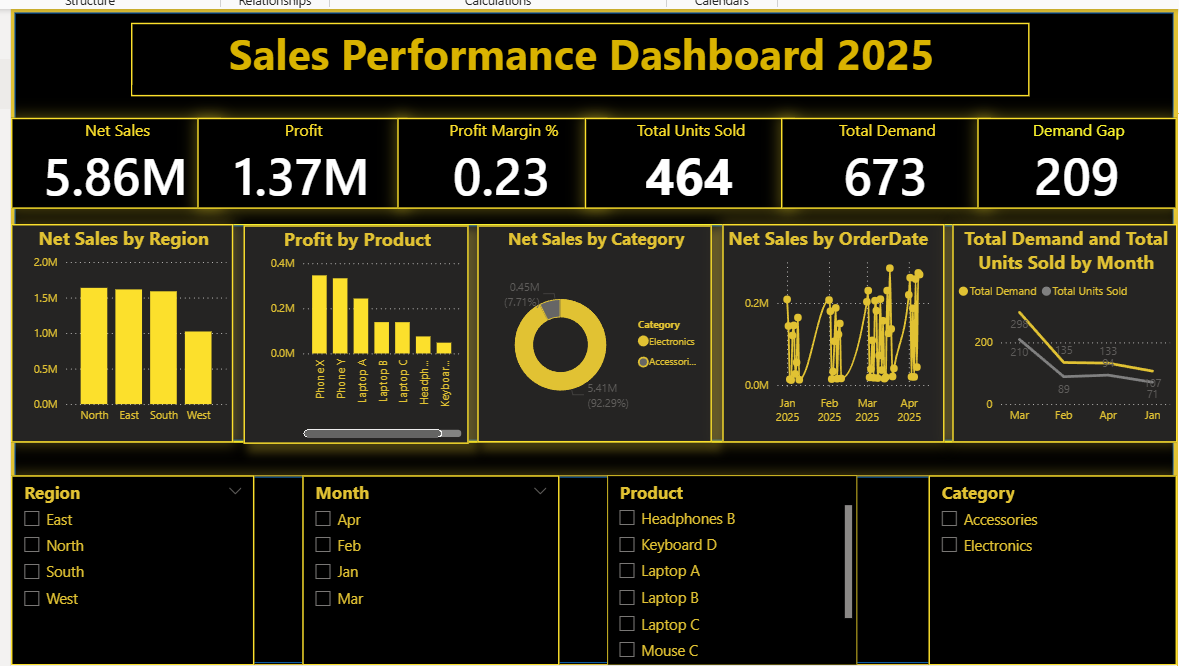

What the dashboard file says about the page in this screenshot:
{"tool":"powerbi","page":{"name":"Page 1","canvas":[1280,720],"ordinal":0},"visuals":[{"type":"shape","box":[0,0,1280.3,720.4],"z":0},{"type":"shape","box":[0,511.8,1280.3,208.6],"z":1000},{"type":"shape","box":[0,236,1280.3,240.1],"z":2000},{"type":"card","title":"Net Sales","fields":{"Values":["SalesDemandData.Net Sales"]},"box":[0,119.4,230.5,100.2],"z":3000},{"type":"card","title":"Profit","fields":{"Values":["SalesDemandData.Profit"]},"box":[204.5,119.4,230.5,100.2],"z":4000},{"type":"card","title":"Profit Margin %","fields":{"Values":["SalesDemandData.Profit Margin %"]},"box":[424,119.4,230.5,100.2],"z":5000},{"type":"card","title":"Total Units Sold","fields":{"Values":["SalesDemandData.Total Units Sold"]},"box":[629.8,119.4,230.5,100.2],"z":6000},{"type":"card","title":"Total Demand","fields":{"Values":["SalesDemandData.Total Demand"]},"box":[845.3,119.4,230.5,100.2],"z":7000},{"type":"card","title":"Demand Gap","fields":{"Values":["SalesDemandData.Demand Gap"]},"box":[1060.7,119.4,219.6,100.2],"z":8000},{"type":"clusteredColumnChart","fields":{"Category":["SalesDemandData.Region"],"Y":["SalesDemandData.Net Sales"]},"box":[0,236,244.3,240.1],"z":9000},{"type":"clusteredColumnChart","fields":{"Category":["SalesDemandData.Product"],"Y":["SalesDemandData.Profit"]},"box":[255.2,237.4,247,240.1],"z":10000},{"type":"donutChart","fields":{"Category":["SalesDemandData.Category"],"Y":["SalesDemandData.Net Sales"]},"box":[511.8,237.4,258,238.8],"z":11000},{"type":"lineChart","fields":{"Y":["SalesDemandData.Net Sales"],"Category":["SalesDemandData.OrderDate"]},"box":[780.8,236,244.3,240.1],"z":12000},{"type":"lineChart","fields":{"Category":["SalesDemandData.Month"],"Y":["SalesDemandData.Total Demand","SalesDemandData.Total Units Sold"]},"box":[1033.3,236,247,240.1],"z":13000},{"type":"slicer","fields":{"Values":["SalesDemandData.Region"]},"box":[0,511.8,267.6,208.6],"z":14000},{"type":"slicer","fields":{"Values":["SalesDemandData.Month"]},"box":[319.7,511.8,282.7,208.6],"z":15000},{"type":"slicer","fields":{"Values":["SalesDemandData.Product"]},"box":[654.5,511.8,274.4,208.6],"z":16000},{"type":"slicer","fields":{"Values":["SalesDemandData.Category"]},"box":[1007.2,511.8,273.1,208.6],"z":17000},{"type":"shape","title":"Sales Performance Dashboard 2025","box":[131.7,15.1,986.6,81],"z":18000}]}

Visuals, with their boxes in screenshot pixels (x1, y1, x2, y2):
shape: [left=9, top=6, right=1172, bottom=661]
shape: [left=9, top=471, right=1172, bottom=661]
shape: [left=9, top=221, right=1172, bottom=439]
"Net Sales" card: [left=9, top=115, right=219, bottom=206]
"Profit" card: [left=195, top=115, right=404, bottom=206]
"Profit Margin %" card: [left=394, top=115, right=604, bottom=206]
"Total Units Sold" card: [left=581, top=115, right=791, bottom=206]
"Total Demand" card: [left=777, top=115, right=986, bottom=206]
"Demand Gap" card: [left=973, top=115, right=1172, bottom=206]
clusteredColumnChart - SalesDemandData.Region x SalesDemandData.Net Sales: [left=9, top=221, right=231, bottom=439]
clusteredColumnChart - SalesDemandData.Product x SalesDemandData.Profit: [left=241, top=222, right=465, bottom=440]
donutChart - SalesDemandData.Category x SalesDemandData.Net Sales: [left=474, top=222, right=708, bottom=439]
lineChart - SalesDemandData.Net Sales x SalesDemandData.OrderDate: [left=718, top=221, right=940, bottom=439]
lineChart - SalesDemandData.Month x SalesDemandData.Total Demand: [left=948, top=221, right=1172, bottom=439]
slicer - SalesDemandData.Region: [left=9, top=471, right=252, bottom=661]
slicer - SalesDemandData.Month: [left=300, top=471, right=556, bottom=661]
slicer - SalesDemandData.Product: [left=604, top=471, right=853, bottom=661]
slicer - SalesDemandData.Category: [left=924, top=471, right=1172, bottom=661]
"Sales Performance Dashboard 2025" shape: [left=129, top=20, right=1025, bottom=93]
